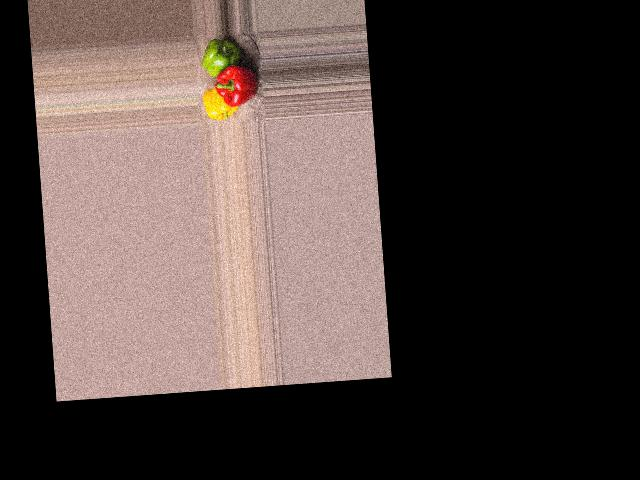bell_pepper: (200, 86, 239, 121)
